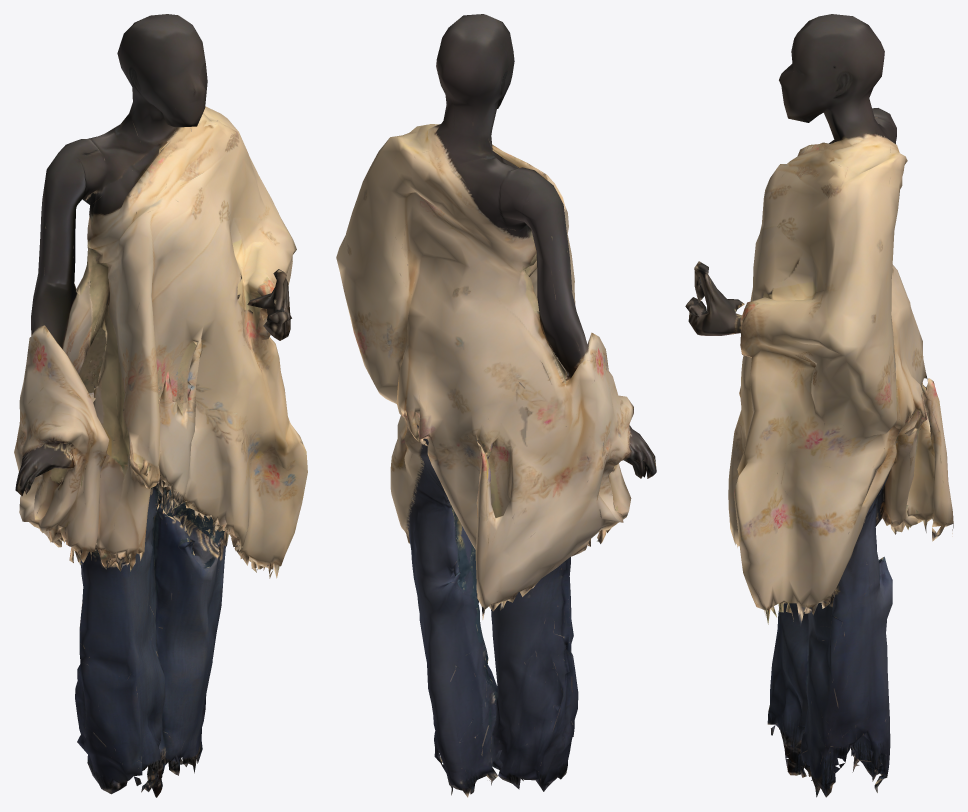
File: kulluShawl.glb
3 views of the same model, side by side, from view 1: azimuth 30°, elevation 25°; view 2: azimuth 150°, elevation 25°; view 3: azimuth 270°, elevation 25° (orthographic). The views are drawn at different scales.
Bounding box in the file's own units: 0.8148 × 1.98 × 0.6254.
Materials: 1 (1 with a texture image).
